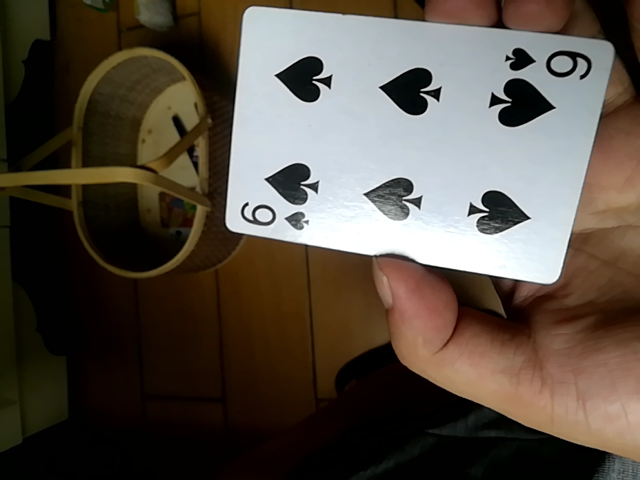ht 6: (224, 2, 612, 292)
